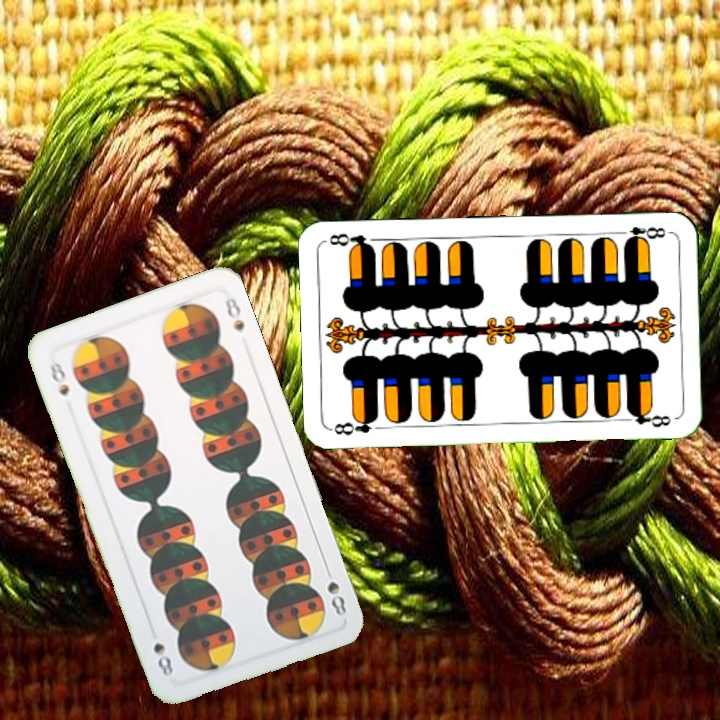E8: (328, 412, 381, 438), (613, 222, 668, 246)
S8: (323, 577, 349, 619), (45, 358, 72, 398)
